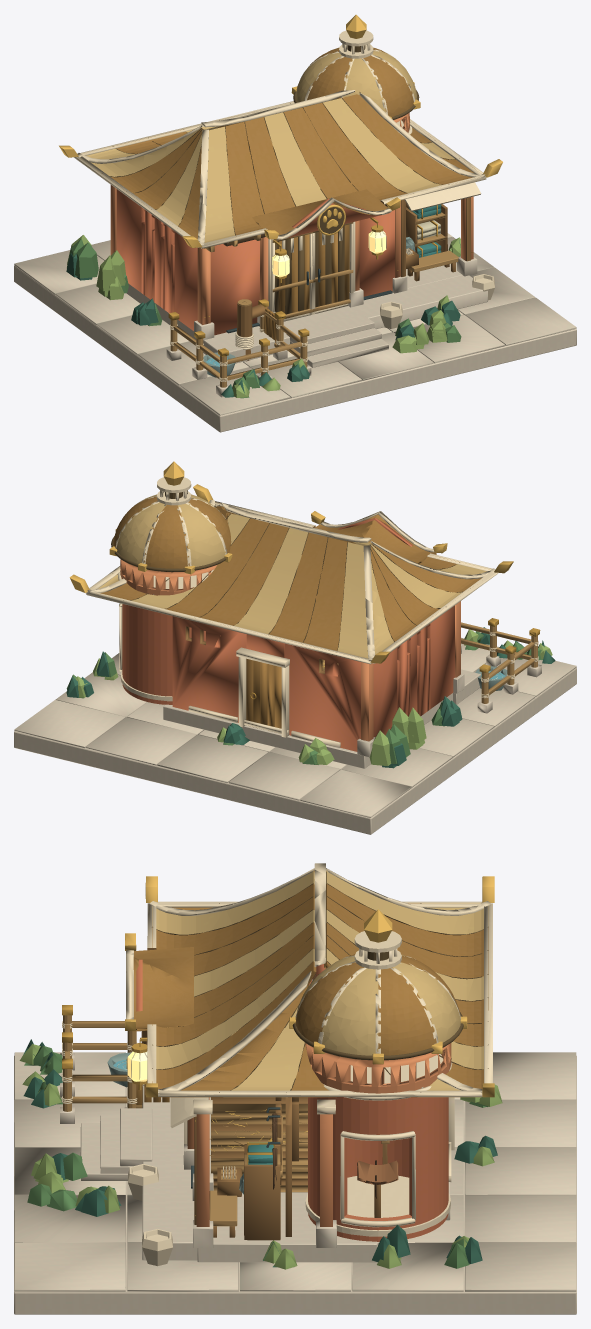
File: beast-lod1-b63a5131dc71.glb
3 views of the same model, one above another, from view 1: azimuth 30°, elevation 25°; view 2: azimuth 150°, elevation 25°; view 3: azimuth 270°, elevation 25° (orthographic). The views are drawn at different scales.
Parts seen in each view (by area): view 1: BZbatch_0.003, BZbatch_38.003, BZbatch_6.003, BZbatch_35.003, BZbatch_40.003, BZbatch_47.003, BZbatch_41.003, BZbatch_12.003, BZbatch_91.003, BZbatch_70.003, BZbatch_86.003, BZbatch_42.003 (+3 smaller); view 2: BZbatch_0.003, BZbatch_6.003, BZbatch_38.003, BZbatch_35.003, BZbatch_40.003, BZbatch_12.003, BZbatch_91.003, BZbatch_47.003, BZbatch_86.003, BZbatch_42.003, BZbatch_41.003, BZbatch_90.003; view 3: BZbatch_0.003, BZbatch_38.003, BZbatch_40.003, BZbatch_35.003, BZbatch_6.003, BZbatch_47.003, BZbatch_70.003, BZbatch_12.003, BZbatch_91.003, BZbatch_86.003, BZbatch_41.003, BZbatch_42.003 (+4 smaller).
Part boxes in pixels (x1=…): BZbatch_0.003: x1=14, y1=233, x2=576, y2=432; BZbatch_38.003: x1=106, y1=47, x2=475, y2=347; BZbatch_6.003: x1=116, y1=189, x2=394, y2=335; BZbatch_35.003: x1=81, y1=51, x2=454, y2=248; BZbatch_40.003: x1=74, y1=30, x2=494, y2=381; BZbatch_47.003: x1=170, y1=212, x2=459, y2=387; BZbatch_41.003: x1=102, y1=45, x2=459, y2=314; BZbatch_12.003: x1=110, y1=112, x2=473, y2=324; BZbatch_91.003: x1=67, y1=235, x2=460, y2=397; BZbatch_70.003: x1=237, y1=197, x2=470, y2=361; BZbatch_86.003: x1=66, y1=240, x2=460, y2=397; BZbatch_42.003: x1=59, y1=14, x2=502, y2=247; BZbatch_0.003: x1=14, y1=637, x2=576, y2=834; BZbatch_6.003: x1=122, y1=518, x2=454, y2=751; BZbatch_38.003: x1=100, y1=497, x2=481, y2=730; BZbatch_35.003: x1=91, y1=494, x2=489, y2=663; BZbatch_40.003: x1=86, y1=477, x2=538, y2=747; BZbatch_12.003: x1=120, y1=559, x2=460, y2=741; BZbatch_91.003: x1=75, y1=629, x2=552, y2=765; BZbatch_47.003: x1=322, y1=622, x2=537, y2=703; BZbatch_86.003: x1=66, y1=627, x2=555, y2=768; BZbatch_42.003: x1=69, y1=461, x2=513, y2=667; BZbatch_41.003: x1=111, y1=492, x2=470, y2=650; BZbatch_90.003: x1=66, y1=631, x2=542, y2=764; BZbatch_0.003: x1=14, y1=1052, x2=576, y2=1314; BZbatch_38.003: x1=132, y1=870, x2=488, y2=1105; BZbatch_40.003: x1=61, y1=863, x2=492, y2=1266; BZbatch_35.003: x1=152, y1=870, x2=488, y2=1097; BZbatch_6.003: x1=136, y1=959, x2=448, y2=1241; BZbatch_47.003: x1=63, y1=1015, x2=389, y2=1235; BZbatch_70.003: x1=141, y1=948, x2=387, y2=1240; BZbatch_12.003: x1=187, y1=1043, x2=451, y2=1226; BZbatch_91.003: x1=19, y1=1044, x2=502, y2=1269; BZbatch_86.003: x1=23, y1=1039, x2=497, y2=1267; BZbatch_41.003: x1=152, y1=883, x2=488, y2=1092; BZbatch_42.003: x1=125, y1=876, x2=494, y2=1151.
Bounding box in the file's own units: 10 × 6.82 × 10.
23 materials, 11 textured.
